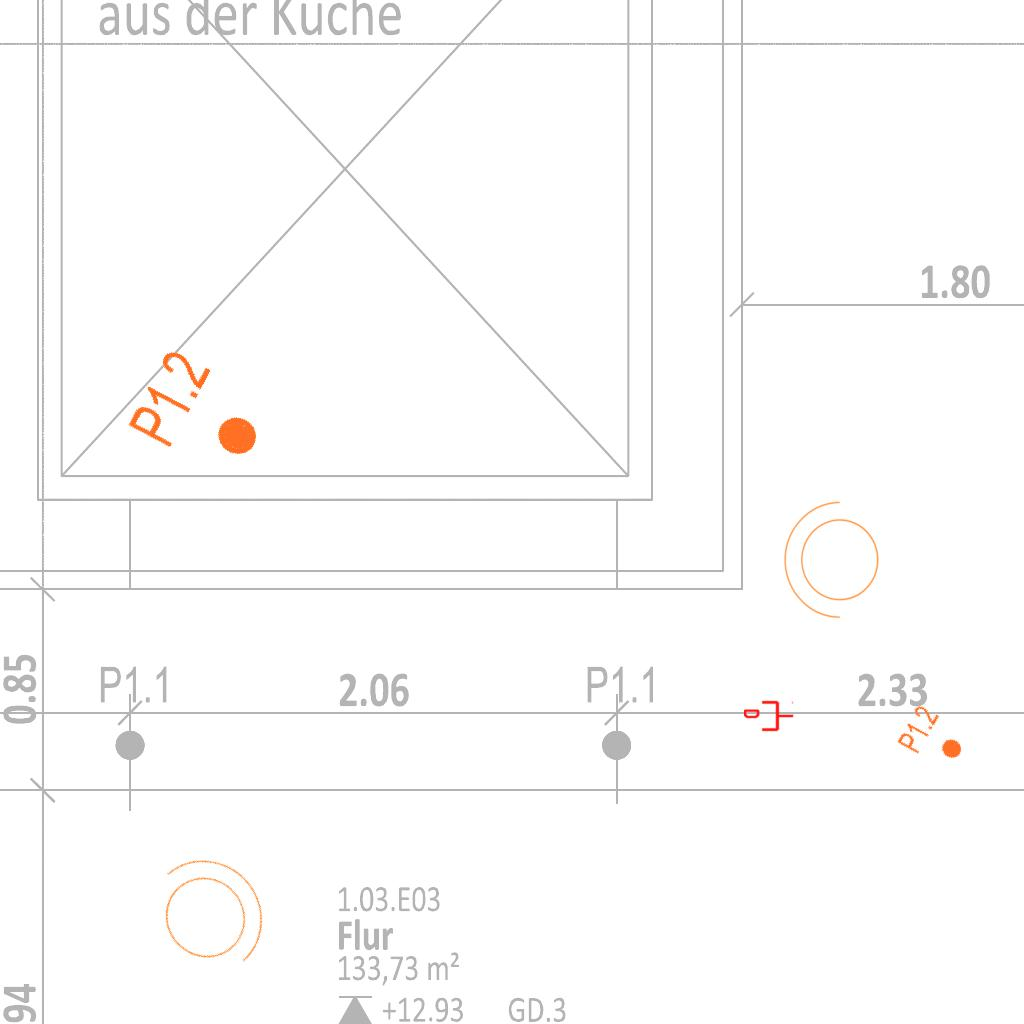Datenanschluss_einfach: (744, 699, 794, 733)
Downlight_LED_Einbauleuchten_Flur: (123, 343, 280, 487), (894, 702, 974, 774)
Scheinwerfer_fuer_Alarmbeleuchtung: (121, 825, 293, 999), (779, 497, 891, 629)
